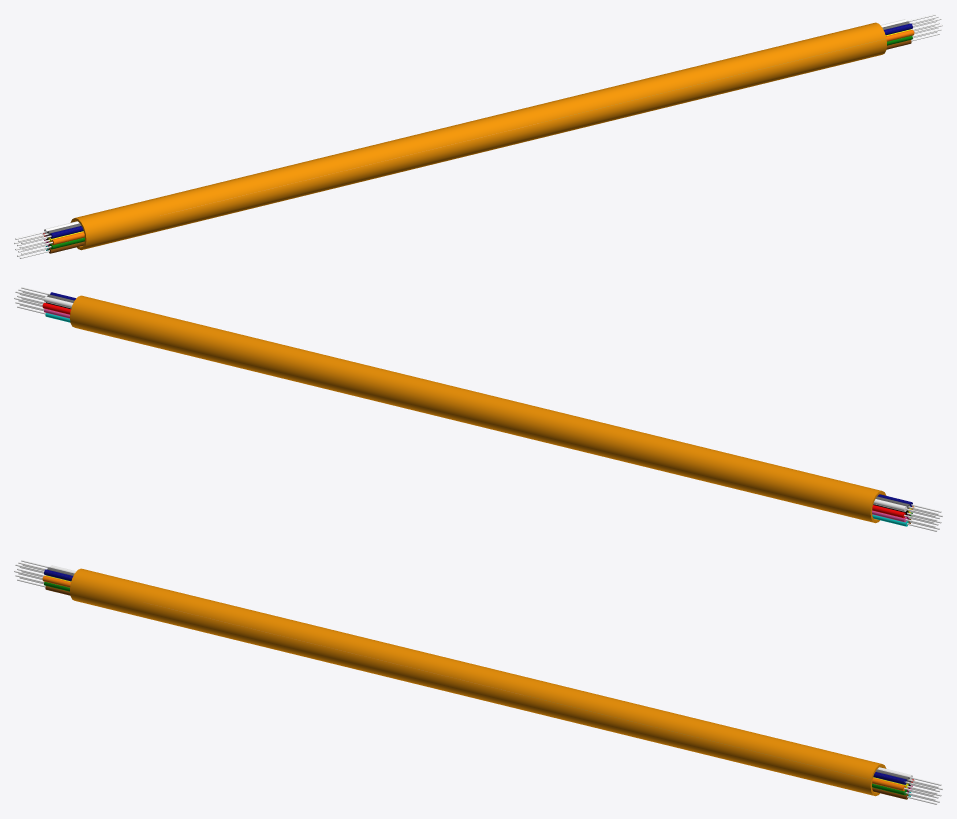
Rendered from multi mode.fbx.
The picture shows the model from 3 angles, top to bottom: view 1: azimuth 30°, elevation 25°; view 2: azimuth 150°, elevation 25°; view 3: azimuth 330°, elevation 25°; orthographic projection.
Parts seen in each view (by area): view 1: Multi mode; view 2: Multi mode; view 3: Multi mode.
Boxes of the visible parts, x1,y1,x2,y2 form: Multi mode: [14, 14, 942, 258]; Multi mode: [14, 287, 942, 531]; Multi mode: [14, 560, 942, 804].
Bounding box in the file's own units: 11.52 × 0.3592 × 0.3592.
Materials: 1 (1 with a texture image).
